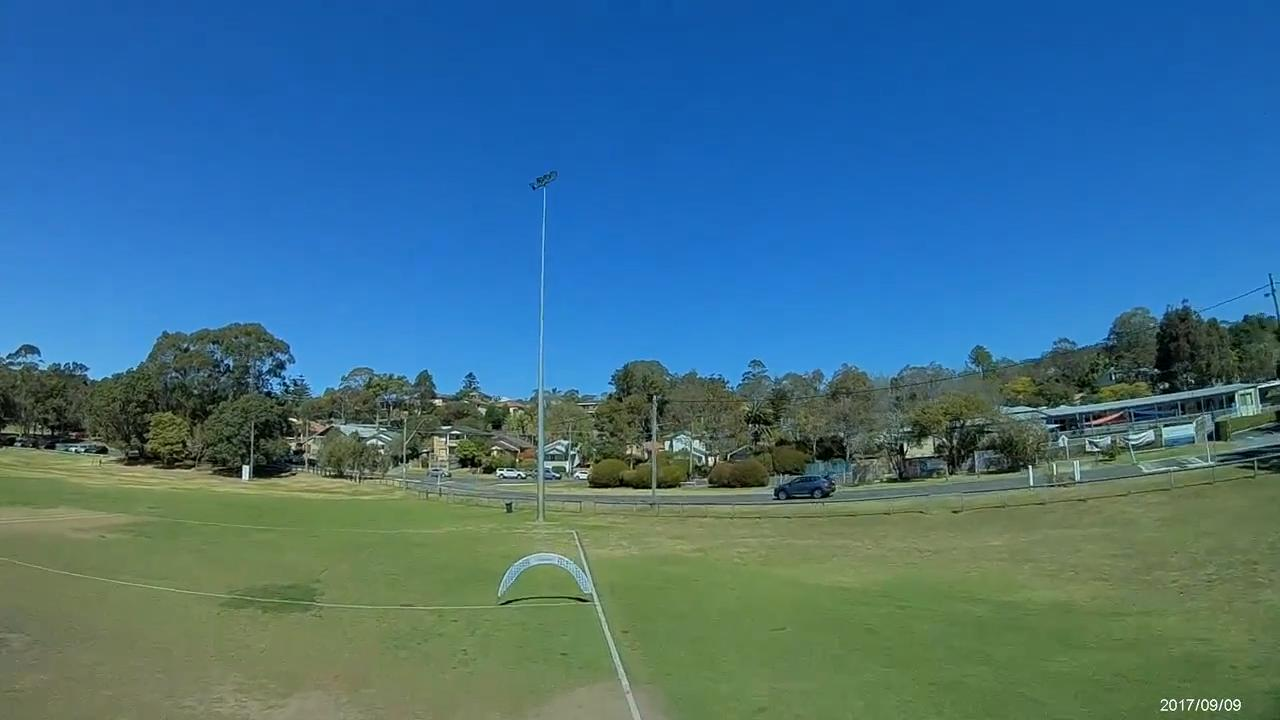gate: (497, 550, 596, 598)
